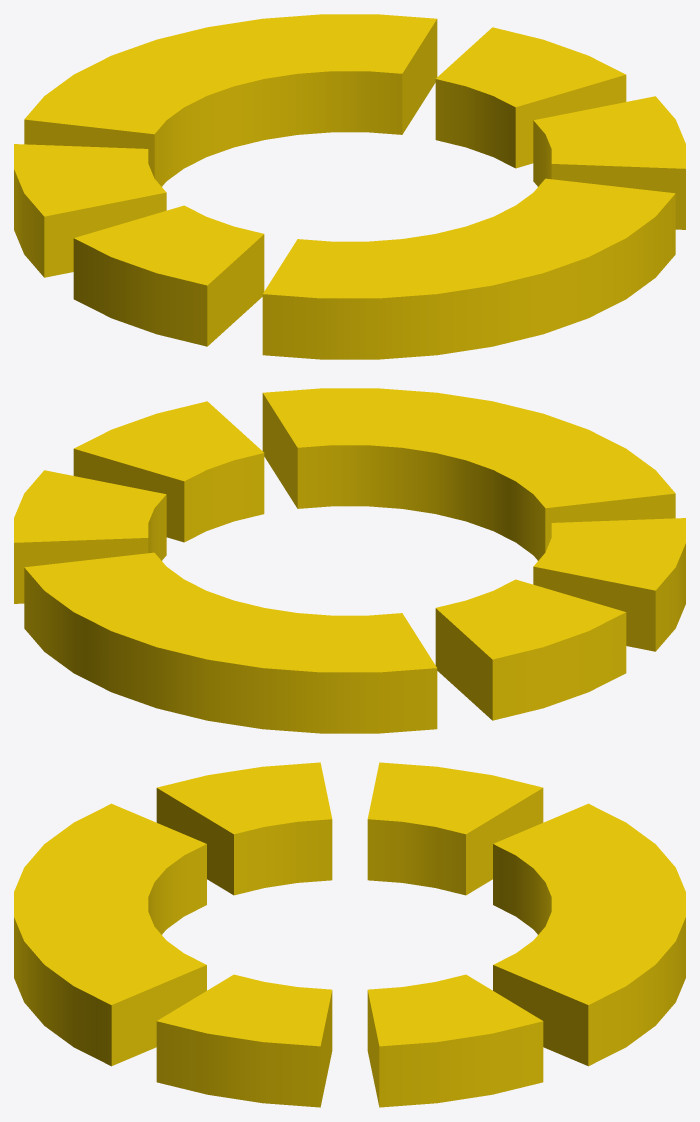
3 views of the same model, one above another, from view 1: azimuth 30°, elevation 25°; view 2: azimuth 150°, elevation 25°; view 3: azimuth 270°, elevation 25° (orthographic).
Parts seen in each view (by area): view 1: Circle; view 2: Circle; view 3: Circle.
Boxes of the visible parts, x1,y1,x2,y2 form: Circle: (14,14,685,359); Circle: (14,388,685,733); Circle: (14,762,685,1107).
Bounding box in the file's own units: 1 × 0.1004 × 1.
